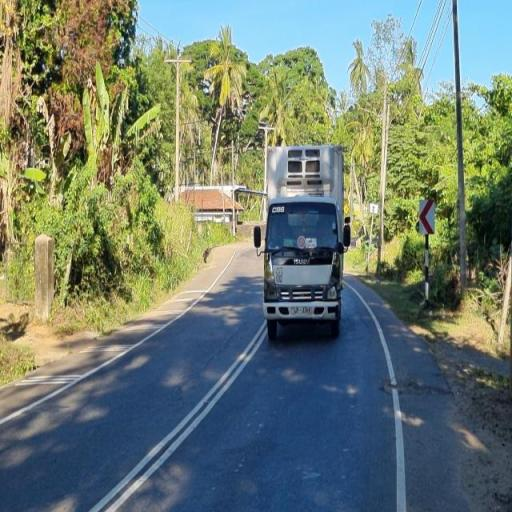double_white_line: (82, 322, 266, 510)
